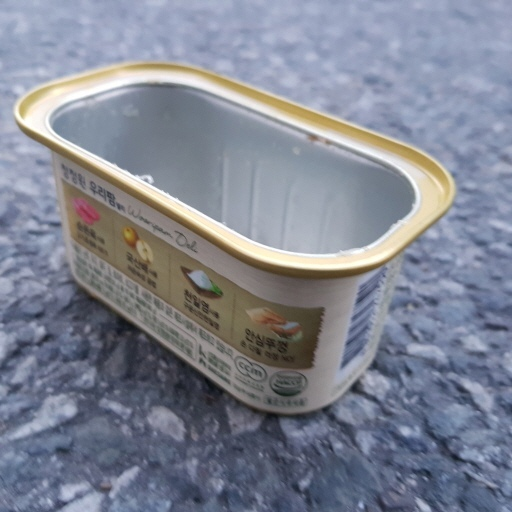Metal_2: (15, 58, 458, 412)
